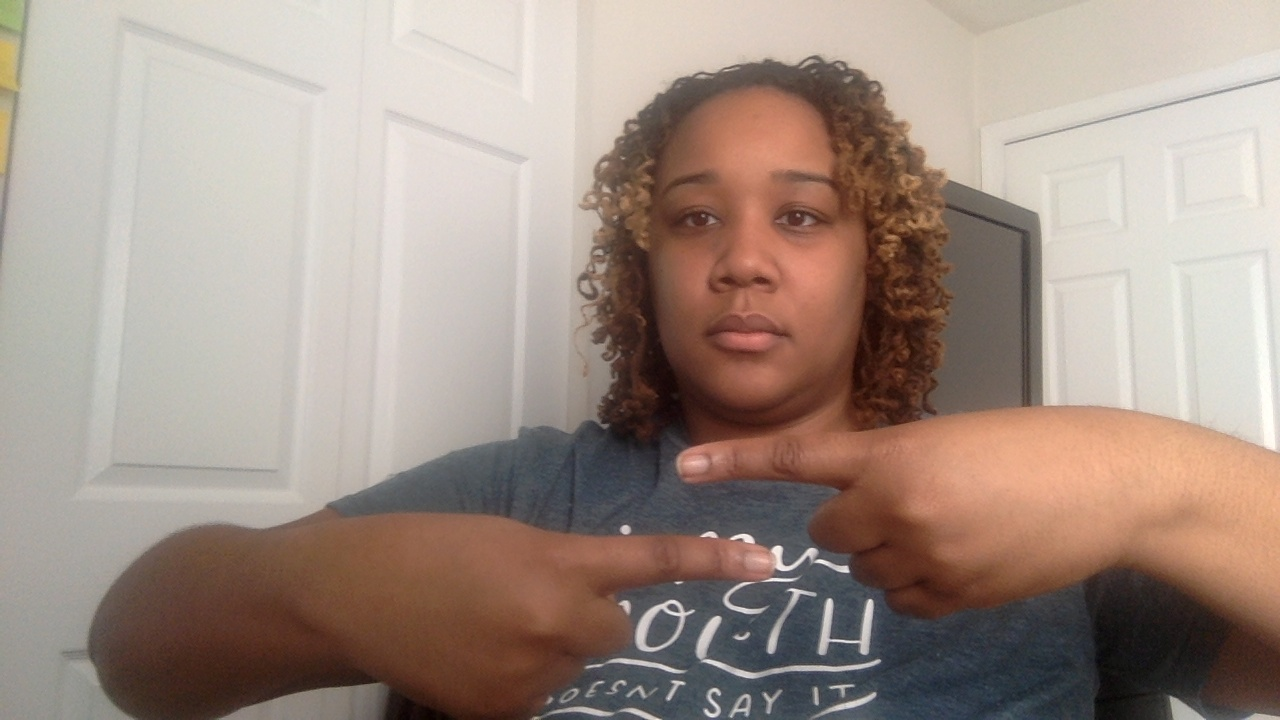go: (83, 407, 1279, 713)
